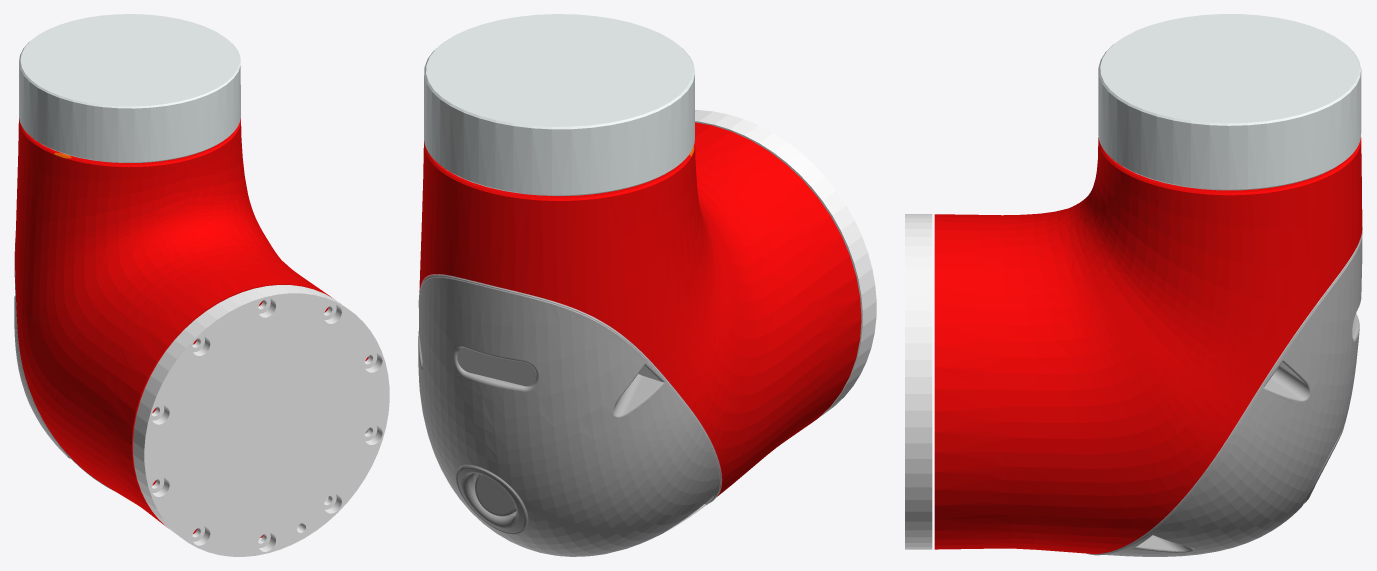
Rendered from SawyerLink2.dae.
3 views of the same model, side by side, from view 1: azimuth 30°, elevation 25°; view 2: azimuth 150°, elevation 25°; view 3: azimuth 270°, elevation 25° (orthographic). The views are drawn at different scales.
Parts seen in each view (by area): view 1: SawyerLink2; view 2: SawyerLink2; view 3: SawyerLink2.
Boxes of the visible parts, bbox=[...] form: SawyerLink2: bbox=[14, 14, 389, 556]; SawyerLink2: bbox=[418, 14, 876, 556]; SawyerLink2: bbox=[905, 14, 1362, 556].
Bounding box in the file's own units: 0.136 × 0.1854 × 0.2118.
